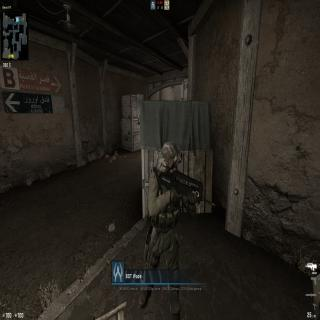CT-Head: (156, 137, 183, 186)
